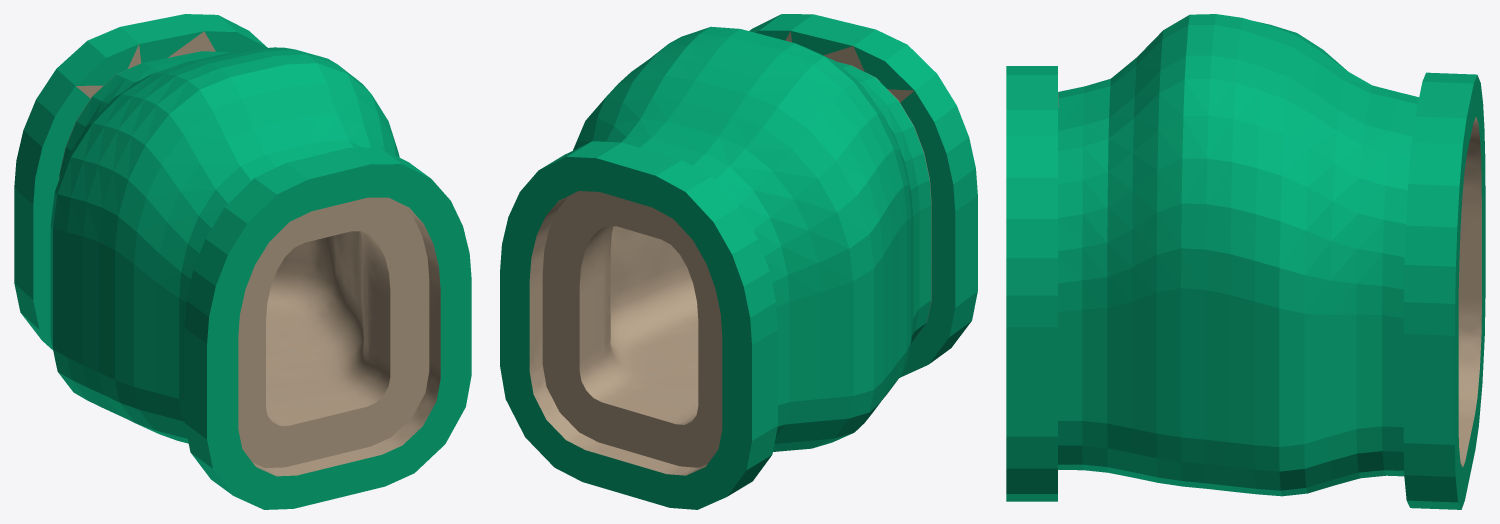
3 views of the same model, side by side, from view 1: azimuth 30°, elevation 25°; view 2: azimuth 150°, elevation 25°; view 3: azimuth 270°, elevation 25° (orthographic). The views are drawn at different scales.
Visible parts, largest first — view 1: TT_Curve_5_C_LOD0; view 2: TT_Curve_5_C_LOD0; view 3: TT_Curve_5_C_LOD0.
Boxes of the visible parts, x1,y1,x2,y2 form: TT_Curve_5_C_LOD0: (14, 14, 471, 509); TT_Curve_5_C_LOD0: (500, 14, 977, 509); TT_Curve_5_C_LOD0: (1006, 14, 1485, 509).
Size of the model in its own units: 403 by 455 by 464.
